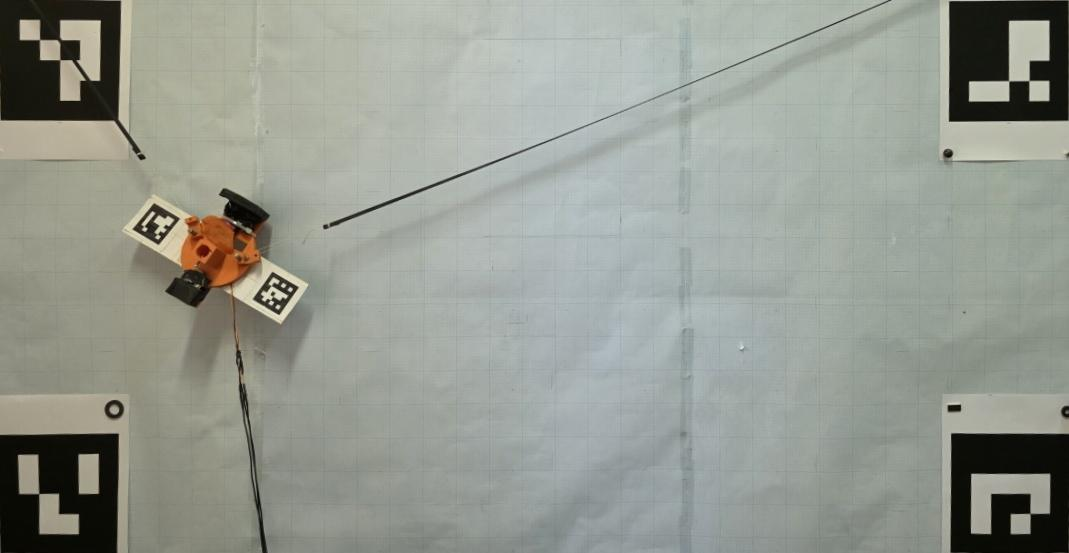robot: (165, 188, 271, 309)
